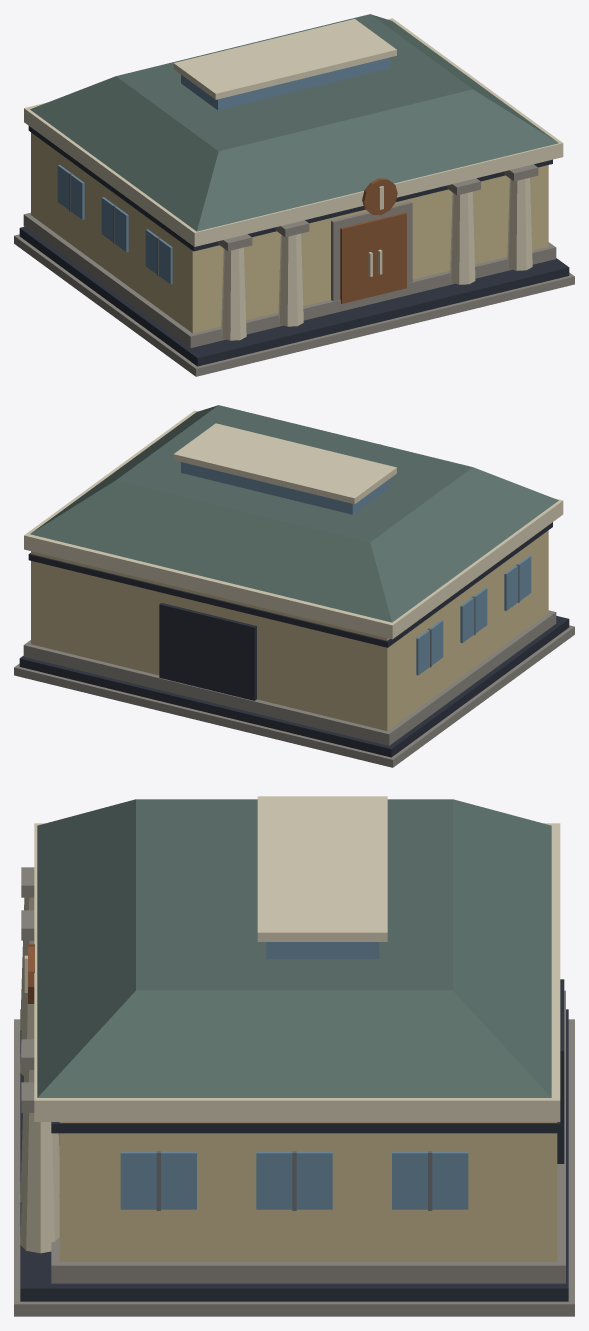
Rendered from installation-bank.glb.
3 renders of one model, top to bottom at view 1: azimuth 30°, elevation 25°; view 2: azimuth 150°, elevation 25°; view 3: azimuth 270°, elevation 25°, orthographic. The views are drawn at different scales.
Visible parts, largest first — view 1: installation_bank; view 2: installation_bank; view 3: installation_bank.
Part boxes in pixels (left/top/right/bottom): installation_bank: left=14, top=14, right=574, bottom=376; installation_bank: left=14, top=405, right=574, bottom=767; installation_bank: left=14, top=796, right=574, bottom=1316.
Bounding box in the file's own units: 11.92 × 6.04 × 9.92.
